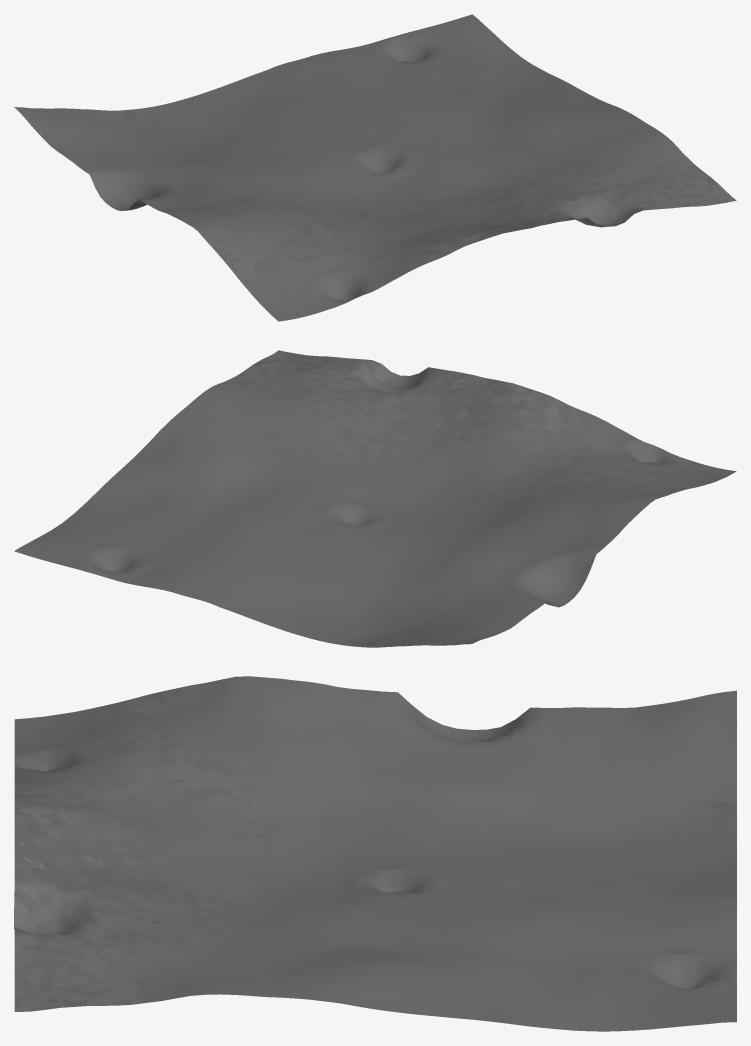
Rendered from moon_surface-1.glb.
3 renders of one model, top to bottom at view 1: azimuth 30°, elevation 25°; view 2: azimuth 150°, elevation 25°; view 3: azimuth 270°, elevation 25°, orthographic. The views are drawn at different scales.
Visible parts, largest first — view 1: moon_surface; view 2: moon_surface; view 3: moon_surface.
Boxes of the visible parts, <box> form: moon_surface: <box>14,14,736,321</box>; moon_surface: <box>14,350,736,647</box>; moon_surface: <box>14,676,736,1031</box>.
Bounding box in the file's own units: 5 × 0.5 × 5.
Materials: 1 (1 with a texture image).
